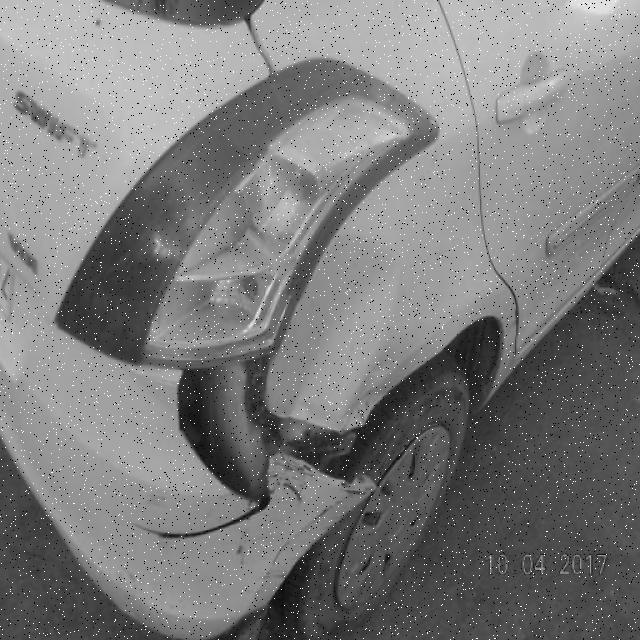car damage: (177, 353, 376, 507), (269, 234, 398, 421)
